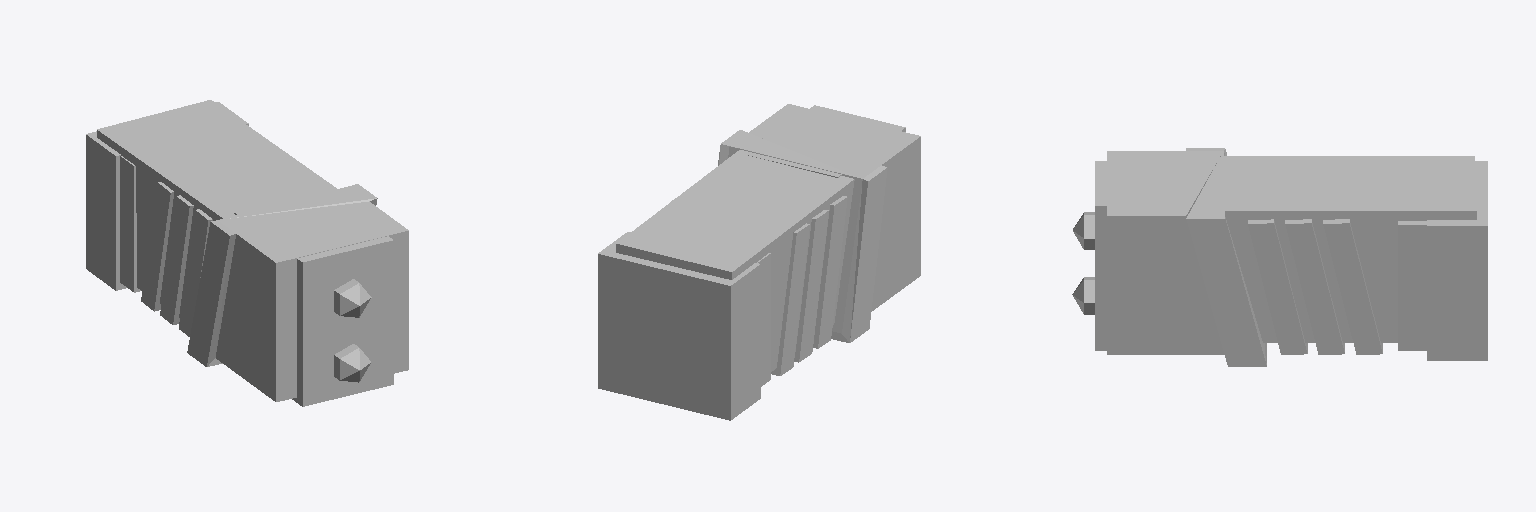
File: staticrightarm.obj
3 views of the same model, side by side, from view 1: azimuth 30°, elevation 25°; view 2: azimuth 150°, elevation 25°; view 3: azimuth 270°, elevation 25° (orthographic).
Visible parts, largest first — view 1: polySurface10; view 2: polySurface10; view 3: polySurface10.
Boxes of the visible parts, x1,y1,x2,y2 form: polySurface10: [86, 100, 408, 406]; polySurface10: [598, 104, 920, 420]; polySurface10: [1072, 148, 1487, 366].
Size of the model in its own units: 1.48 by 1.39 by 3.54.